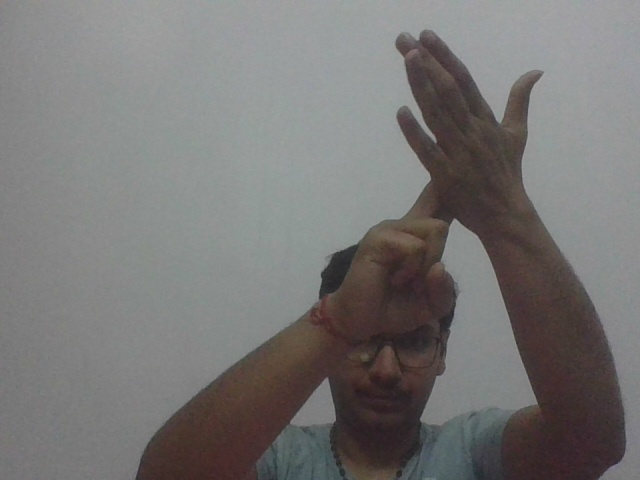N: (352, 22, 550, 246)
